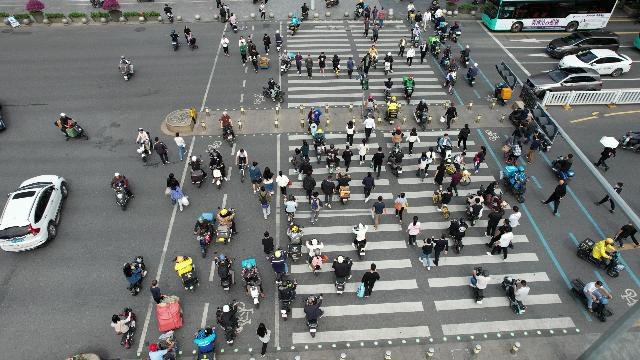non-motor-vehicle: (564, 278, 618, 322), (574, 238, 628, 278), (216, 302, 244, 346), (240, 259, 266, 305), (302, 292, 326, 338), (502, 276, 532, 312), (112, 308, 138, 348), (124, 255, 148, 297), (468, 265, 494, 303), (207, 147, 230, 189), (110, 172, 132, 210), (334, 256, 356, 294), (304, 238, 326, 276), (54, 114, 86, 140), (278, 280, 298, 320), (194, 326, 218, 359), (479, 180, 507, 208), (448, 152, 472, 184), (450, 218, 468, 254), (135, 127, 153, 163), (464, 192, 484, 224), (216, 253, 232, 292), (215, 207, 235, 238), (270, 250, 290, 280), (435, 186, 455, 216), (552, 154, 576, 178), (188, 156, 206, 188), (195, 212, 217, 236), (180, 262, 198, 290), (174, 256, 196, 278), (264, 78, 284, 102), (504, 140, 524, 164), (120, 56, 136, 82), (510, 105, 530, 125), (496, 85, 514, 107), (438, 133, 454, 157), (220, 115, 234, 142), (386, 100, 399, 126), (390, 148, 402, 176), (280, 50, 294, 74), (428, 34, 442, 58), (200, 232, 212, 258), (391, 127, 405, 149), (272, 30, 286, 52), (331, 53, 343, 78), (284, 200, 298, 221), (286, 226, 302, 244), (368, 44, 380, 68), (465, 66, 479, 86), (352, 0, 366, 20), (404, 74, 416, 96), (410, 26, 422, 48), (288, 15, 300, 36), (168, 29, 180, 50), (438, 22, 450, 42), (461, 45, 473, 65), (182, 276, 198, 290), (447, 58, 461, 74), (450, 22, 462, 40), (164, 4, 174, 25), (339, 190, 351, 206), (384, 56, 394, 74), (230, 14, 240, 32), (407, 1, 415, 23), (442, 47, 452, 64), (314, 130, 326, 144), (437, 14, 449, 28), (432, 7, 446, 19), (423, 113, 432, 131), (446, 74, 458, 86), (325, 0, 339, 8)
person: (148, 280, 184, 330), (504, 164, 528, 204), (546, 178, 568, 218), (593, 180, 625, 206), (596, 137, 618, 173), (492, 227, 516, 259), (351, 222, 371, 260), (359, 262, 378, 300), (616, 223, 640, 249), (484, 205, 504, 235), (526, 134, 546, 164), (255, 324, 273, 357), (308, 192, 326, 222), (166, 186, 188, 210), (181, 24, 201, 50), (249, 160, 263, 196), (442, 103, 458, 132), (374, 196, 388, 228), (408, 218, 424, 246), (372, 146, 386, 178), (472, 148, 490, 172), (251, 48, 269, 72), (262, 167, 276, 197), (434, 234, 448, 264), (360, 174, 376, 200), (394, 193, 406, 225), (236, 150, 248, 182), (422, 238, 434, 270), (497, 218, 513, 242), (264, 230, 276, 260), (155, 142, 171, 164), (342, 144, 354, 172), (277, 172, 291, 194), (434, 162, 446, 187), (514, 121, 526, 145), (417, 152, 428, 176), (361, 52, 372, 74), (408, 132, 420, 152), (359, 140, 369, 164), (261, 34, 273, 54), (238, 42, 248, 66), (419, 40, 429, 63), (512, 209, 524, 228), (528, 116, 536, 144), (459, 125, 471, 143), (262, 202, 274, 219), (406, 46, 416, 66), (300, 3, 312, 19), (174, 134, 186, 150), (318, 52, 326, 76), (426, 146, 434, 170), (258, 2, 268, 20), (346, 57, 354, 79), (424, 9, 432, 31), (372, 23, 381, 42), (166, 174, 178, 188), (399, 35, 407, 56), (364, 117, 374, 133), (294, 54, 302, 74), (363, 18, 371, 38), (221, 36, 229, 54), (415, 10, 423, 28), (247, 41, 257, 55), (379, 7, 385, 27), (372, 6, 378, 24), (346, 120, 356, 130), (246, 36, 254, 48), (366, 4, 372, 20), (221, 4, 229, 15), (240, 36, 246, 46)
